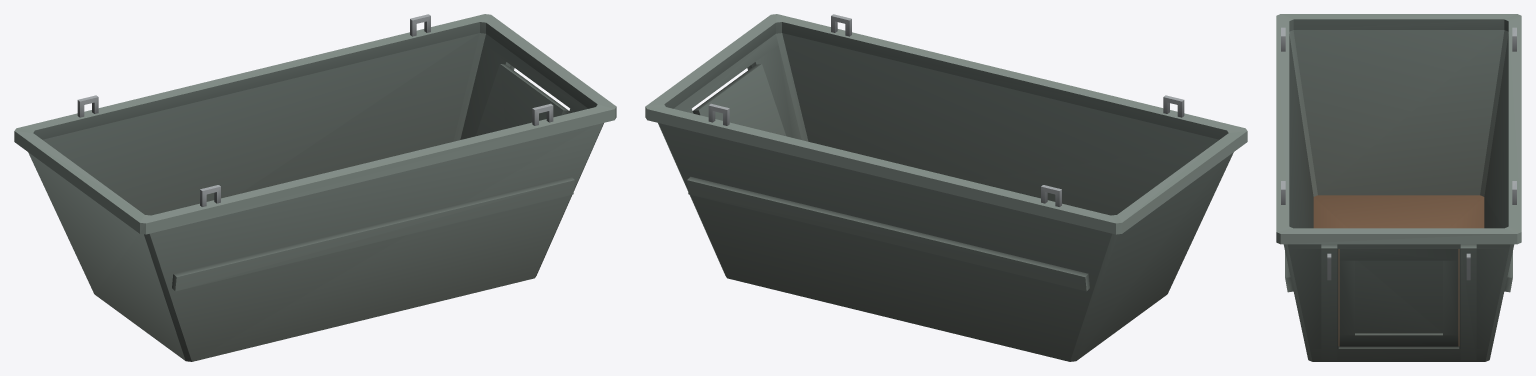
The model's file is skip.glb.
3 renders of one model, left to right at view 1: azimuth 30°, elevation 25°; view 2: azimuth 150°, elevation 25°; view 3: azimuth 270°, elevation 25°, orthographic. The views are drawn at different scales.
Parts seen in each view (by area): view 1: skip; view 2: skip; view 3: skip.
Boxes of the visible parts, x1,y1,x2,y2 form: skip: (14, 14, 616, 361); skip: (645, 14, 1247, 361); skip: (1276, 14, 1521, 361).
Bounding box in the file's own units: 3.6 × 1.32 × 1.7.
